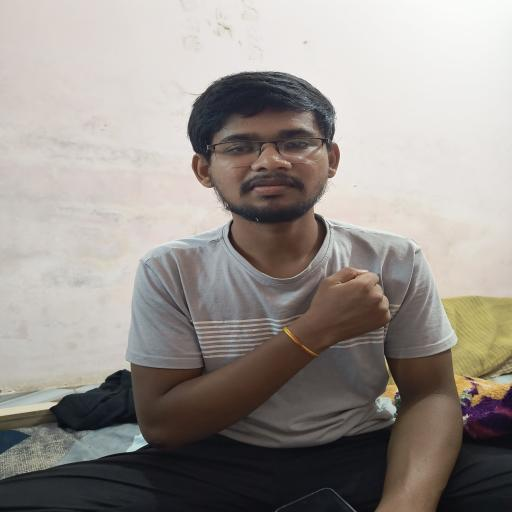Understood: (101, 208, 410, 459)
